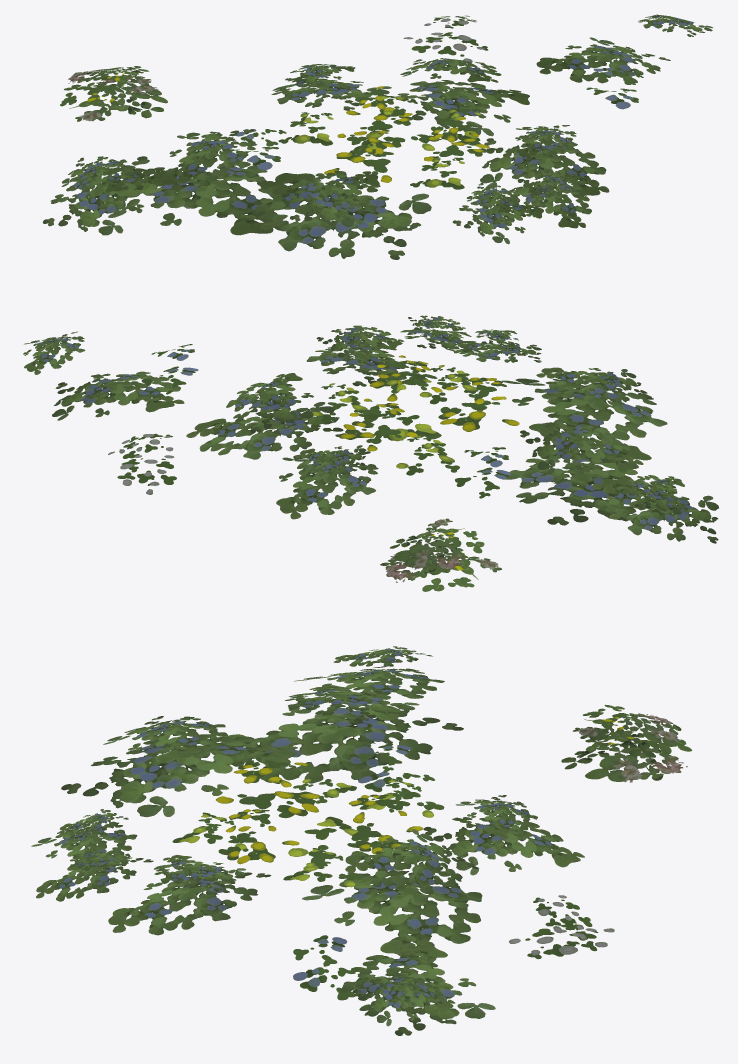
The model's file is flowers_002.fbx.
3 views of the same model, one above another, from view 1: azimuth 30°, elevation 25°; view 2: azimuth 150°, elevation 25°; view 3: azimuth 270°, elevation 25° (orthographic). The views are drawn at different scales.
Parts seen in each view (by area): view 1: flowers_002; view 2: flowers_002; view 3: flowers_002.
Part boxes in pixels (x1,y1,x2,y2): flowers_002: (42, 14, 712, 259); flowers_002: (23, 315, 718, 591); flowers_002: (31, 646, 692, 1035).
Size of the model in its own units: 39273 by 3641 by 28437.
